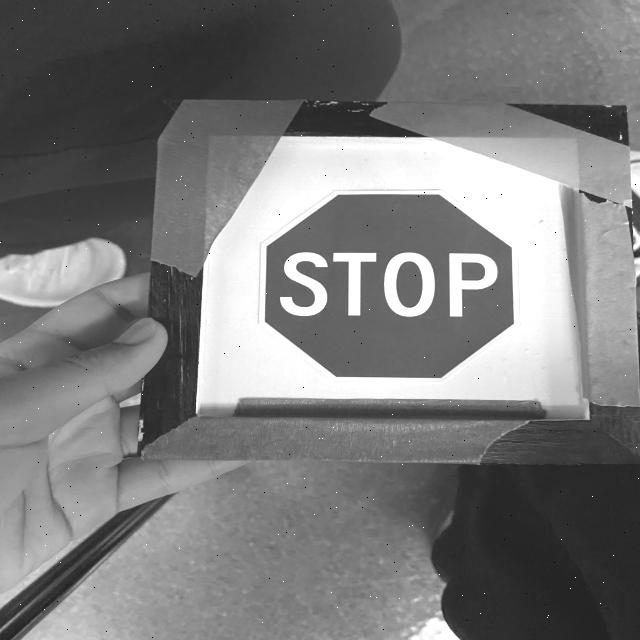stop: (257, 189, 519, 382)
